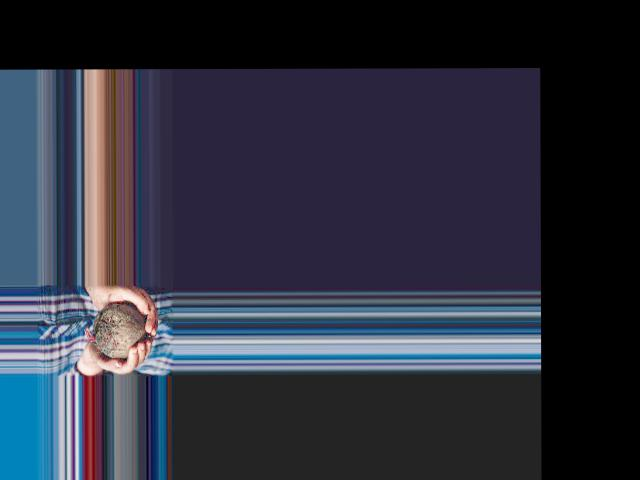beet: (83, 302, 146, 357)
